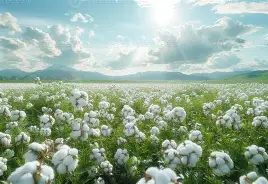crops: (0, 80, 266, 182), (1, 73, 264, 85), (204, 88, 267, 130), (61, 89, 115, 138), (114, 84, 206, 112), (209, 143, 268, 182), (5, 143, 55, 182), (119, 105, 150, 142), (163, 139, 201, 169), (0, 104, 27, 138), (135, 166, 181, 182), (89, 147, 113, 176)
